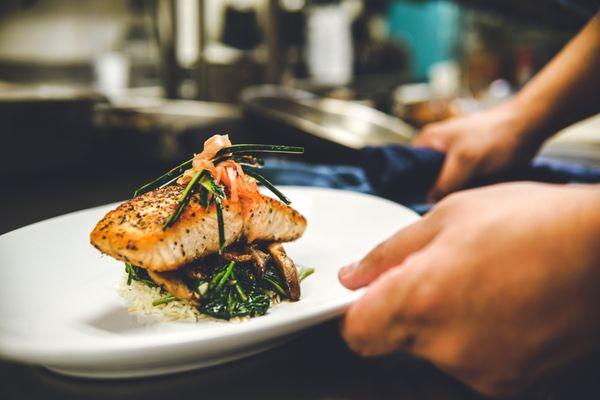soup: (88, 137, 308, 321)
